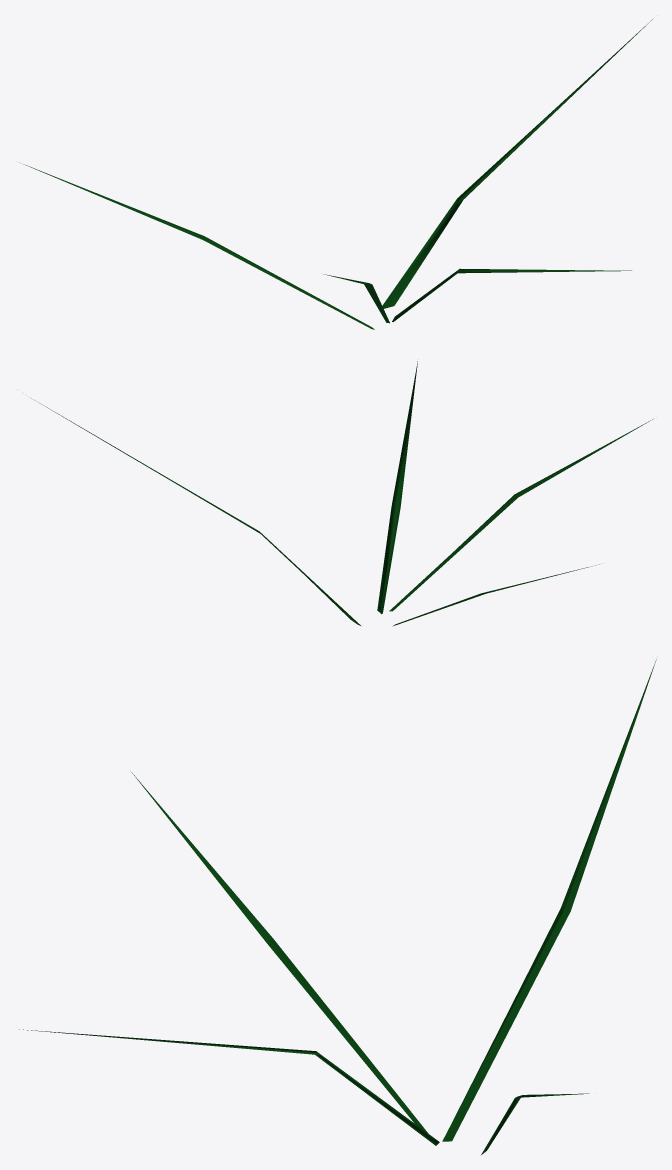
The model's file is whGotuKolaPlantSapling.glb.
3 views of the same model, one above another, from view 1: azimuth 30°, elevation 25°; view 2: azimuth 150°, elevation 25°; view 3: azimuth 270°, elevation 25° (orthographic). The views are drawn at different scales.
Visible parts, largest first — view 1: Icosphere; view 2: Icosphere; view 3: Icosphere.
Part boxes in pixels (left/top/right/bottom): Icosphere: left=23, top=19, right=652, bottom=329; Icosphere: left=31, top=361, right=652, bottom=626; Icosphere: left=19, top=659, right=656, bottom=1154.
Bounding box in the file's own units: 0.6593 × 0.1979 × 0.3971.
